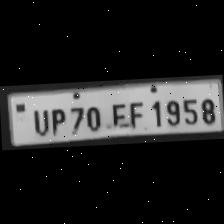0: (81, 101, 103, 131)
1: (145, 97, 163, 127)
5: (179, 95, 199, 125)
7: (66, 102, 85, 134)
8: (196, 94, 218, 124)
9: (162, 96, 180, 126)
E: (106, 100, 127, 128)
F: (125, 98, 144, 128)
P: (46, 104, 67, 136)
U: (29, 104, 50, 136)
